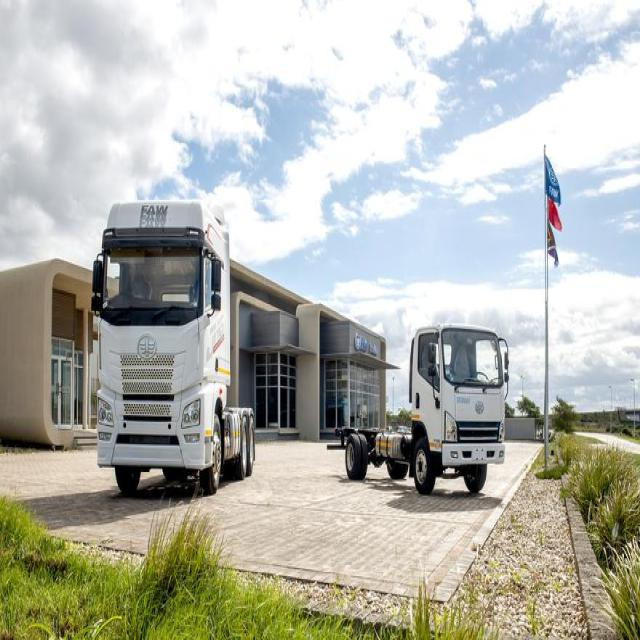Heavy Duty Truck: (95, 196, 258, 504), (326, 307, 510, 497)
